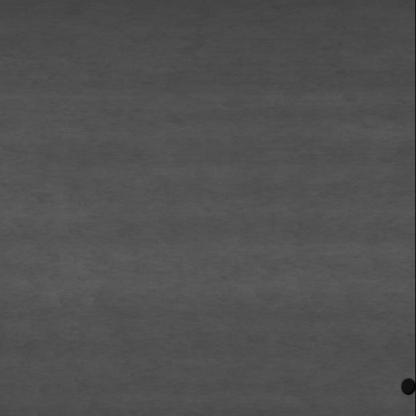punching_hole: (399, 376, 416, 398)
